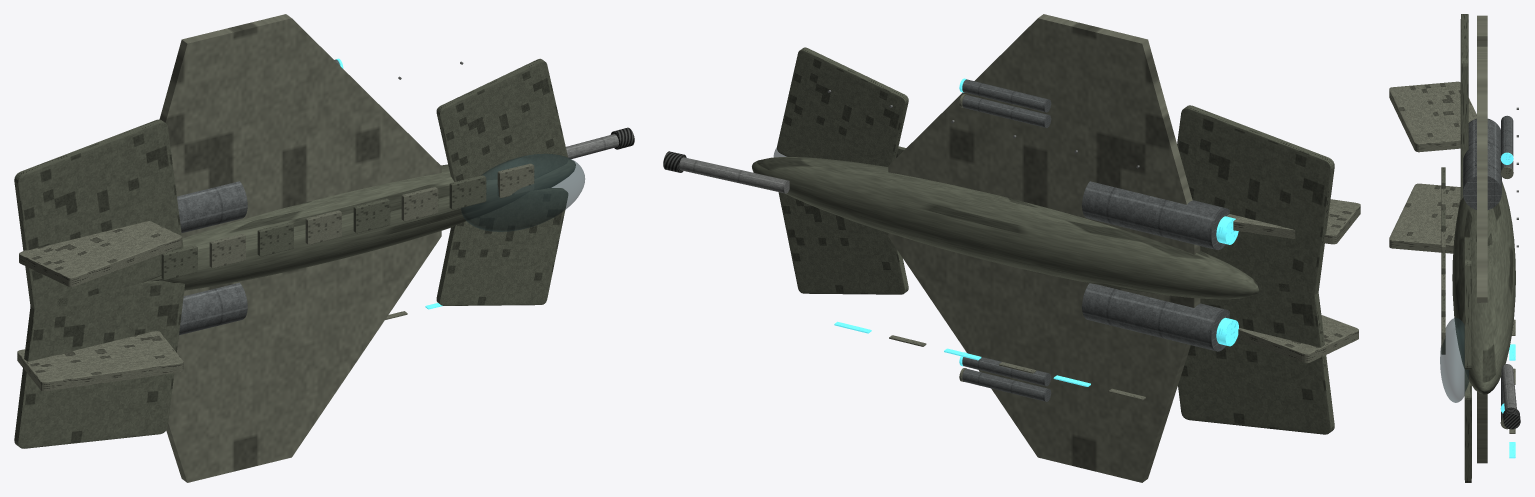
The model's file is v-x04-vanguard-aero-lod0.glb.
The picture shows the model from 3 angles, left to right: view 1: azimuth 30°, elevation 25°; view 2: azimuth 150°, elevation 25°; view 3: azimuth 270°, elevation 25°; orthographic projection. The views are drawn at different scales.
Visible parts, largest first — view 1: combat_main_wing, combat_tailplane_1, combat_tailplane_-1, combat_fuselage, canard_-1, canard_1, combat_fin_-1, combat_canopy, combat_fin_1, combat_engine_1, combat_engine_0, airframe_panel_4 (+8 smaller); view 2: combat_main_wing, combat_fuselage, combat_tailplane_1, combat_tailplane_-1, canard_1, canard_-1, combat_engine_1, combat_engine_0, combat_fin_-1, combat_fin_1, combat_gun_barrel_0, combat_1_tube_2 (+3 smaller); view 3: combat_fuselage, combat_fin_1, combat_main_wing, combat_fin_-1, combat_engine_1, combat_canopy, combat_tailplane_1, canard_1, canard_-1, combat_gun_barrel_0, combat_1_tube_2, combat_gun_muzzle_0 (+1 smaller).
Part boxes in pixels (bbox=[...]): combat_main_wing: bbox=[159, 14, 441, 482]; combat_tailplane_1: bbox=[14, 119, 183, 314]; combat_tailplane_-1: bbox=[14, 280, 184, 448]; combat_fuselage: bbox=[147, 159, 575, 290]; canard_-1: bbox=[436, 188, 567, 305]; canard_1: bbox=[436, 58, 568, 181]; combat_fin_-1: bbox=[17, 331, 183, 391]; combat_canopy: bbox=[461, 153, 584, 231]; combat_fin_1: bbox=[19, 221, 181, 286]; combat_engine_1: bbox=[177, 181, 247, 232]; combat_engine_0: bbox=[179, 282, 247, 335]; airframe_panel_4: bbox=[353, 198, 390, 233]; combat_main_wing: bbox=[888, 14, 1200, 482]; combat_fuselage: bbox=[752, 157, 1259, 299]; combat_tailplane_1: bbox=[1177, 105, 1334, 299]; combat_tailplane_-1: bbox=[1178, 281, 1334, 434]; canard_1: bbox=[777, 47, 908, 166]; canard_-1: bbox=[778, 192, 908, 294]; combat_engine_1: bbox=[1082, 181, 1229, 250]; combat_engine_0: bbox=[1082, 283, 1229, 351]; combat_fin_-1: bbox=[1237, 315, 1358, 363]; combat_fin_1: bbox=[1226, 199, 1360, 244]; combat_gun_barrel_0: bbox=[679, 157, 789, 193]; combat_1_tube_2: bbox=[962, 79, 1051, 112]; combat_fuselage: bbox=[1452, 181, 1515, 394]; combat_fin_1: bbox=[1389, 81, 1476, 152]; combat_main_wing: bbox=[1477, 15, 1487, 463]; combat_fin_-1: bbox=[1389, 183, 1460, 253]; combat_engine_1: bbox=[1463, 118, 1501, 209]; combat_canopy: bbox=[1440, 318, 1469, 402]; combat_tailplane_1: bbox=[1460, 14, 1468, 200]; canard_1: bbox=[1464, 237, 1471, 369]; canard_-1: bbox=[1464, 372, 1471, 482]; combat_gun_barrel_0: bbox=[1501, 364, 1516, 409]; combat_1_tube_2: bbox=[1501, 115, 1513, 155]; combat_gun_muzzle_0: bbox=[1503, 407, 1520, 429].
Size of what is drawn, in the model's own units: 16.05 by 10.53 by 3.12.
Materials: 7 (7 with a texture image).
